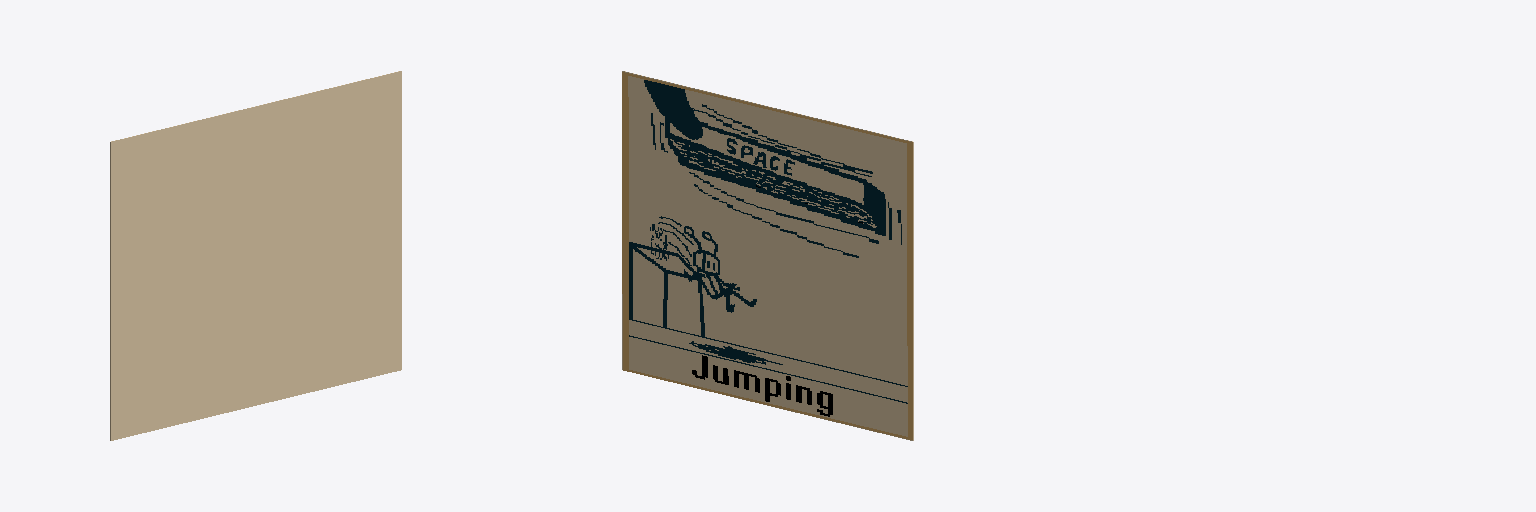
3 renders of one model, left to right at view 1: azimuth 30°, elevation 25°; view 2: azimuth 150°, elevation 25°; view 3: azimuth 270°, elevation 25°, orthographic.
Parts seen in each view (by area): view 1: Cube; view 2: Cube; view 3: none.
Part boxes in pixels (bbox=[...]): Cube: bbox=[110, 71, 401, 440]; Cube: bbox=[622, 71, 913, 440].
Bounding box in the file's own units: 0.7509 × 0.7387 × 0.001.
Materials: 1 (1 with a texture image).